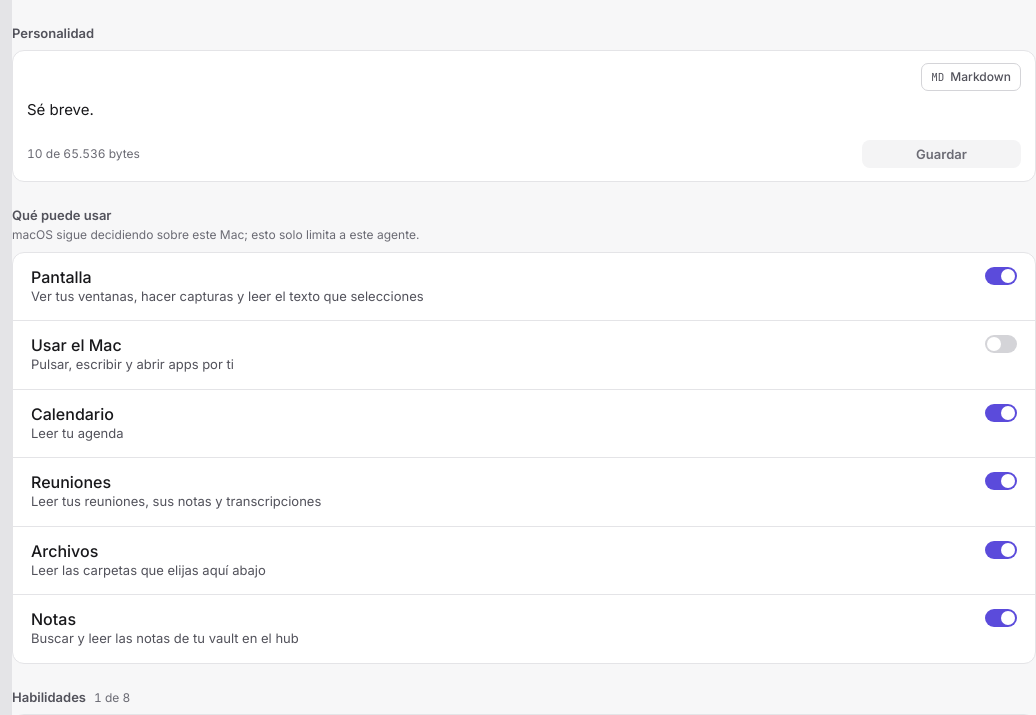
Test: an assistant's cards › a switch is the decision: the order goes at once with the five groups, and the config is read again
This screenshot has width=1036, height=715.
Click the switch named "Usar el Mac" at (1001, 344), box [985,335,1017,353]
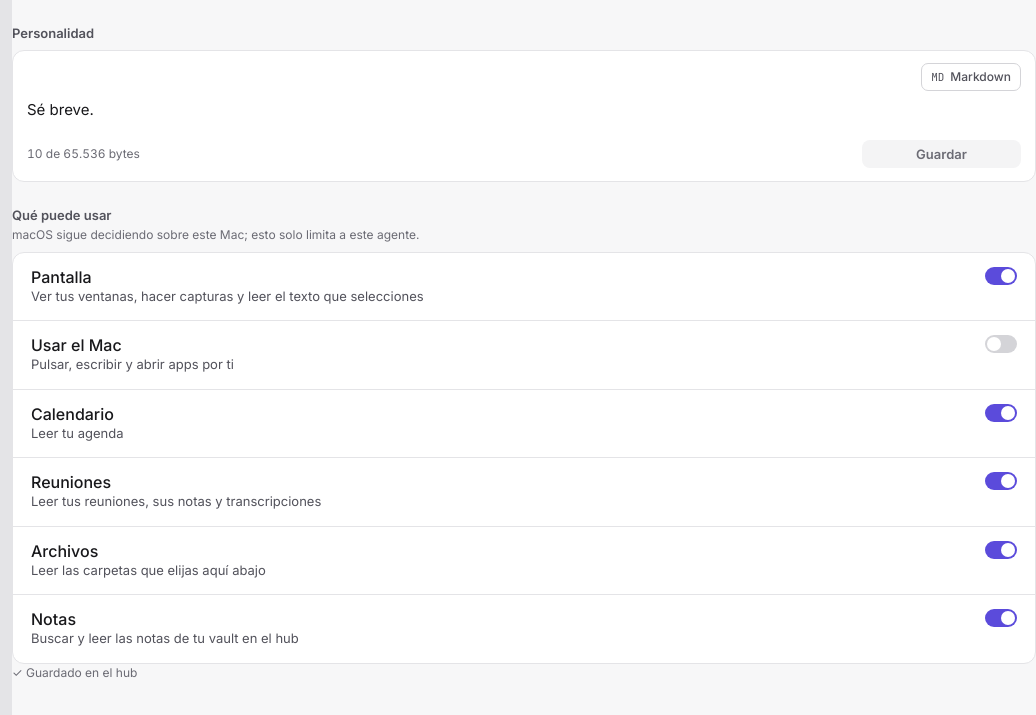
expect the message reads "✓ Guardado en el hub": met, box [12,665,137,680]
